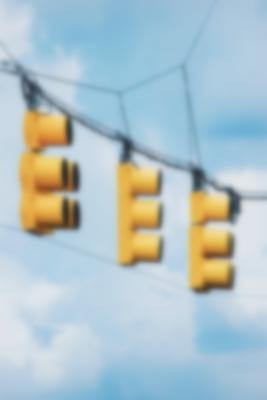International Road Signal Light: (17, 100, 80, 235), (187, 183, 238, 293), (116, 158, 164, 266)
